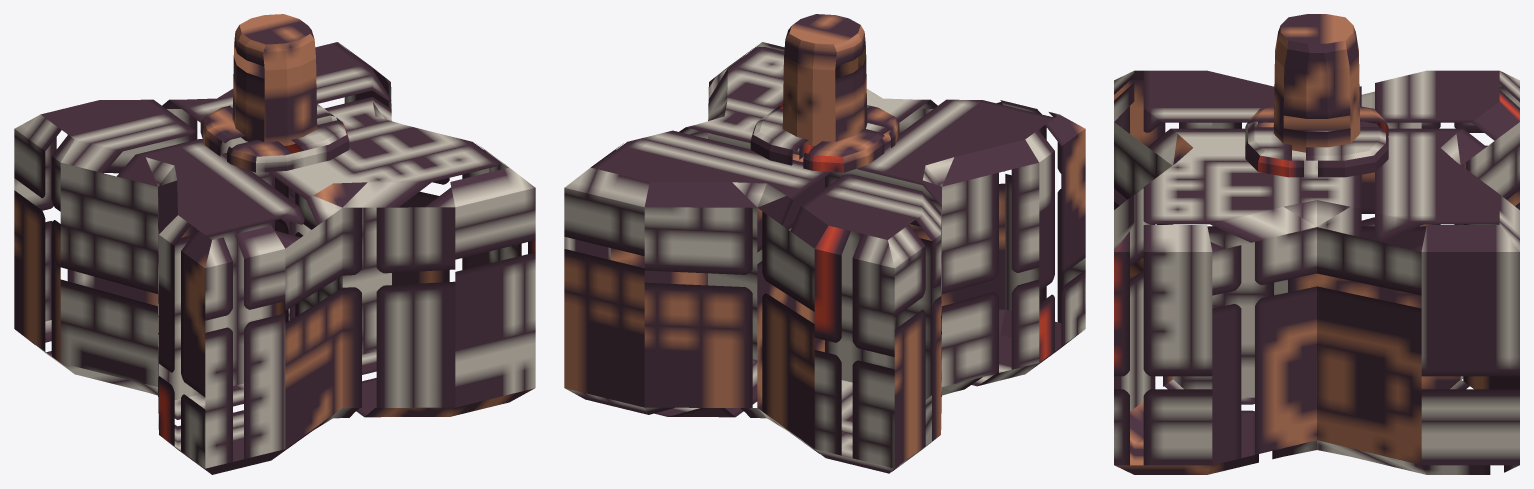
The model's file is turret_base.obj.
3 renders of one model, left to right at view 1: azimuth 30°, elevation 25°; view 2: azimuth 150°, elevation 25°; view 3: azimuth 270°, elevation 25°, orthographic. The views are drawn at different scales.
Parts seen in each view (by area): view 1: Cube.002_Cube.003; view 2: Cube.002_Cube.003; view 3: Cube.002_Cube.003.
Boxes of the visible parts, bbox=[...] form: Cube.002_Cube.003: bbox=[14, 14, 535, 474]; Cube.002_Cube.003: bbox=[564, 14, 1085, 473]; Cube.002_Cube.003: bbox=[1114, 14, 1519, 474].
Bounding box in the file's own units: 25.69 × 25.76 × 25.69.
